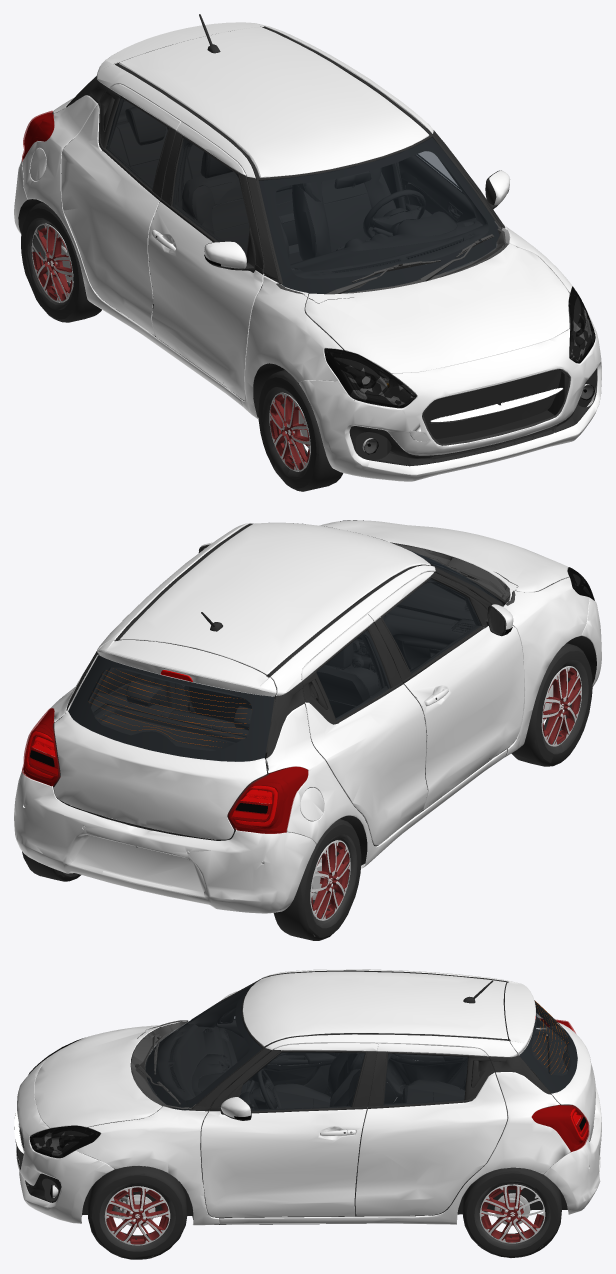
The model's file is compact_swift_lod0.glb.
3 views of the same model, one above another, from view 1: azimuth 30°, elevation 25°; view 2: azimuth 150°, elevation 25°; view 3: azimuth 270°, elevation 25° (orthographic). The views are drawn at different scales.
Visible parts, largest first — view 1: Mesh34_M_2022_Suzuki_Swift_Pearl_Ablaze_Red_0, Mesh10_M_2022_Suzuki_Swift_Interior_0, Mesh15_M_2022_Suzuki_Swift_SWIFT_ZP_EX_PARTS_GLASS_MAT_0, Mesh18_M_2022_Suzuki_Swift_SWIFT_ZXIP_GAPFILL_MAT_0, Mesh13_M_2022_Suzuki_Swift_SWIFT_Z_EX_LIGHTS_HEADLIGHT_GLASS, Mesh6_M_2022_Suzuki_Swift_SWIFT_ZP_EX_WHEEL_BLACK_MAT_0, Mesh44_M_2022_Suzuki_Swift_SWIFT_ZP_EX_LIGHTS_HEADLIGHT_BLAC, Mesh43_M_2022_Suzuki_Swift_SWIFT_ZP_EX_PARTS_BLACKPLASTIC_MA, Mesh21_M_2022_Suzuki_Swift_SWIFT_ZP_EX_PARTS_WIPERBLACKPLAST, Mesh5_M_2022_Suzuki_Swift_SWIFT_ZP_EX_WHEEL_CHROME_PLATED_MA, Mesh2_M_2022_Suzuki_Swift_SWIFT_ZP_EX_PARTS_GLOSSY_BLACKPLAS, Mesh1_M_2022_Suzuki_Swift_SWIFT_ZP_EX_PARTS_CHROME_MAT_0 (+2 smaller); view 2: Mesh34_M_2022_Suzuki_Swift_Pearl_Ablaze_Red_0, Mesh10_M_2022_Suzuki_Swift_Interior_0, Mesh15_M_2022_Suzuki_Swift_SWIFT_ZP_EX_PARTS_GLASS_MAT_0, Mesh18_M_2022_Suzuki_Swift_SWIFT_ZXIP_GAPFILL_MAT_0, Mesh62_M_2022_Suzuki_Swift_SWIFT_ZP_EX_LIGHTS_TAILLIGHT_READ, Mesh6_M_2022_Suzuki_Swift_SWIFT_ZP_EX_WHEEL_BLACK_MAT_0, Mesh66_M_2022_Suzuki_Swift_SWIFT_ZP_EX_LIGHTS_TAILLIGHT_CHRO, Mesh44_M_2022_Suzuki_Swift_SWIFT_ZP_EX_LIGHTS_HEADLIGHT_BLAC, Mesh5_M_2022_Suzuki_Swift_SWIFT_ZP_EX_WHEEL_CHROME_PLATED_MA, Mesh21_M_2022_Suzuki_Swift_SWIFT_ZP_EX_PARTS_WIPERBLACKPLAST, Mesh80_M_2022_Suzuki_Swift_SWIFT_ZP_EX_LIGHTS_TAILLIGHT_RED_, Mesh77_M_2022_Suzuki_Swift_SWIFT_ZP_EX_PARTS_DEFOGERLINES_MA; view 3: Mesh34_M_2022_Suzuki_Swift_Pearl_Ablaze_Red_0, Mesh10_M_2022_Suzuki_Swift_Interior_0, Mesh15_M_2022_Suzuki_Swift_SWIFT_ZP_EX_PARTS_GLASS_MAT_0, Mesh18_M_2022_Suzuki_Swift_SWIFT_ZXIP_GAPFILL_MAT_0, Mesh6_M_2022_Suzuki_Swift_SWIFT_ZP_EX_WHEEL_BLACK_MAT_0, Mesh44_M_2022_Suzuki_Swift_SWIFT_ZP_EX_LIGHTS_HEADLIGHT_BLAC, Mesh5_M_2022_Suzuki_Swift_SWIFT_ZP_EX_WHEEL_CHROME_PLATED_MA, Mesh13_M_2022_Suzuki_Swift_SWIFT_Z_EX_LIGHTS_HEADLIGHT_GLASS, Mesh21_M_2022_Suzuki_Swift_SWIFT_ZP_EX_PARTS_WIPERBLACKPLAST, Mesh62_M_2022_Suzuki_Swift_SWIFT_ZP_EX_LIGHTS_TAILLIGHT_READ, Mesh66_M_2022_Suzuki_Swift_SWIFT_ZP_EX_LIGHTS_TAILLIGHT_CHRO, Mesh43_M_2022_Suzuki_Swift_SWIFT_ZP_EX_PARTS_BLACKPLASTIC_MA.
Part boxes in pixels (box(x1,y1,x2,y2)): Mesh34_M_2022_Suzuki_Swift_Pearl_Ablaze_Red_0: box(14, 22, 601, 481); Mesh10_M_2022_Suzuki_Swift_Interior_0: box(21, 14, 517, 491); Mesh15_M_2022_Suzuki_Swift_SWIFT_ZP_EX_PARTS_GLASS_MAT_0: box(89, 75, 501, 293); Mesh18_M_2022_Suzuki_Swift_SWIFT_ZXIP_GAPFILL_MAT_0: box(18, 50, 596, 462); Mesh13_M_2022_Suzuki_Swift_SWIFT_Z_EX_LIGHTS_HEADLIGHT_GLASS: box(324, 286, 595, 454); Mesh6_M_2022_Suzuki_Swift_SWIFT_ZP_EX_WHEEL_BLACK_MAT_0: box(32, 226, 309, 469); Mesh44_M_2022_Suzuki_Swift_SWIFT_ZP_EX_LIGHTS_HEADLIGHT_BLAC: box(25, 218, 595, 479); Mesh43_M_2022_Suzuki_Swift_SWIFT_ZP_EX_PARTS_BLACKPLASTIC_MA: box(349, 368, 597, 466); Mesh21_M_2022_Suzuki_Swift_SWIFT_ZP_EX_PARTS_WIPERBLACKPLAST: box(276, 221, 508, 303); Mesh5_M_2022_Suzuki_Swift_SWIFT_ZP_EX_WHEEL_CHROME_PLATED_MA: box(31, 223, 310, 471); Mesh2_M_2022_Suzuki_Swift_SWIFT_ZP_EX_PARTS_GLOSSY_BLACKPLAS: box(422, 369, 570, 445); Mesh1_M_2022_Suzuki_Swift_SWIFT_ZP_EX_PARTS_CHROME_MAT_0: box(430, 388, 562, 421); Mesh34_M_2022_Suzuki_Swift_Pearl_Ablaze_Red_0: box(14, 520, 601, 913); Mesh10_M_2022_Suzuki_Swift_Interior_0: box(22, 523, 592, 940); Mesh15_M_2022_Suzuki_Swift_SWIFT_ZP_EX_PARTS_GLASS_MAT_0: box(68, 551, 503, 761); Mesh18_M_2022_Suzuki_Swift_SWIFT_ZXIP_GAPFILL_MAT_0: box(47, 564, 596, 865); Mesh62_M_2022_Suzuki_Swift_SWIFT_ZP_EX_LIGHTS_TAILLIGHT_READ: box(22, 708, 308, 833); Mesh6_M_2022_Suzuki_Swift_SWIFT_ZP_EX_WHEEL_BLACK_MAT_0: box(311, 668, 580, 918); Mesh66_M_2022_Suzuki_Swift_SWIFT_ZP_EX_LIGHTS_TAILLIGHT_CHRO: box(23, 708, 308, 833); Mesh44_M_2022_Suzuki_Swift_SWIFT_ZP_EX_LIGHTS_HEADLIGHT_BLAC: box(62, 567, 590, 928); Mesh5_M_2022_Suzuki_Swift_SWIFT_ZP_EX_WHEEL_CHROME_PLATED_MA: box(310, 666, 581, 920); Mesh21_M_2022_Suzuki_Swift_SWIFT_ZP_EX_PARTS_WIPERBLACKPLAST: box(392, 543, 518, 605); Mesh80_M_2022_Suzuki_Swift_SWIFT_ZP_EX_LIGHTS_TAILLIGHT_RED_: box(25, 731, 277, 826); Mesh77_M_2022_Suzuki_Swift_SWIFT_ZP_EX_PARTS_DEFOGERLINES_MA: box(90, 670, 246, 746); Mesh34_M_2022_Suzuki_Swift_Pearl_Ablaze_Red_0: box(16, 969, 601, 1225); Mesh10_M_2022_Suzuki_Swift_Interior_0: box(87, 970, 587, 1259); Mesh15_M_2022_Suzuki_Swift_SWIFT_ZP_EX_PARTS_GLASS_MAT_0: box(145, 984, 577, 1110); Mesh18_M_2022_Suzuki_Swift_SWIFT_ZXIP_GAPFILL_MAT_0: box(18, 981, 593, 1224); Mesh6_M_2022_Suzuki_Swift_SWIFT_ZP_EX_WHEEL_BLACK_MAT_0: box(106, 1186, 543, 1244); Mesh44_M_2022_Suzuki_Swift_SWIFT_ZP_EX_LIGHTS_HEADLIGHT_BLAC: box(30, 1126, 550, 1251); Mesh5_M_2022_Suzuki_Swift_SWIFT_ZP_EX_WHEEL_CHROME_PLATED_MA: box(104, 1184, 545, 1245); Mesh13_M_2022_Suzuki_Swift_SWIFT_Z_EX_LIGHTS_HEADLIGHT_GLASS: box(28, 1038, 100, 1198); Mesh21_M_2022_Suzuki_Swift_SWIFT_ZP_EX_PARTS_WIPERBLACKPLAST: box(130, 1020, 195, 1109); Mesh62_M_2022_Suzuki_Swift_SWIFT_ZP_EX_LIGHTS_TAILLIGHT_READ: box(532, 1019, 589, 1151); Mesh66_M_2022_Suzuki_Swift_SWIFT_ZP_EX_LIGHTS_TAILLIGHT_CHRO: box(532, 1018, 588, 1151); Mesh43_M_2022_Suzuki_Swift_SWIFT_ZP_EX_PARTS_BLACKPLASTIC_MA: box(25, 1173, 61, 1202).
Bounding box in the file's own units: 1.85 × 1.63 × 3.84.
